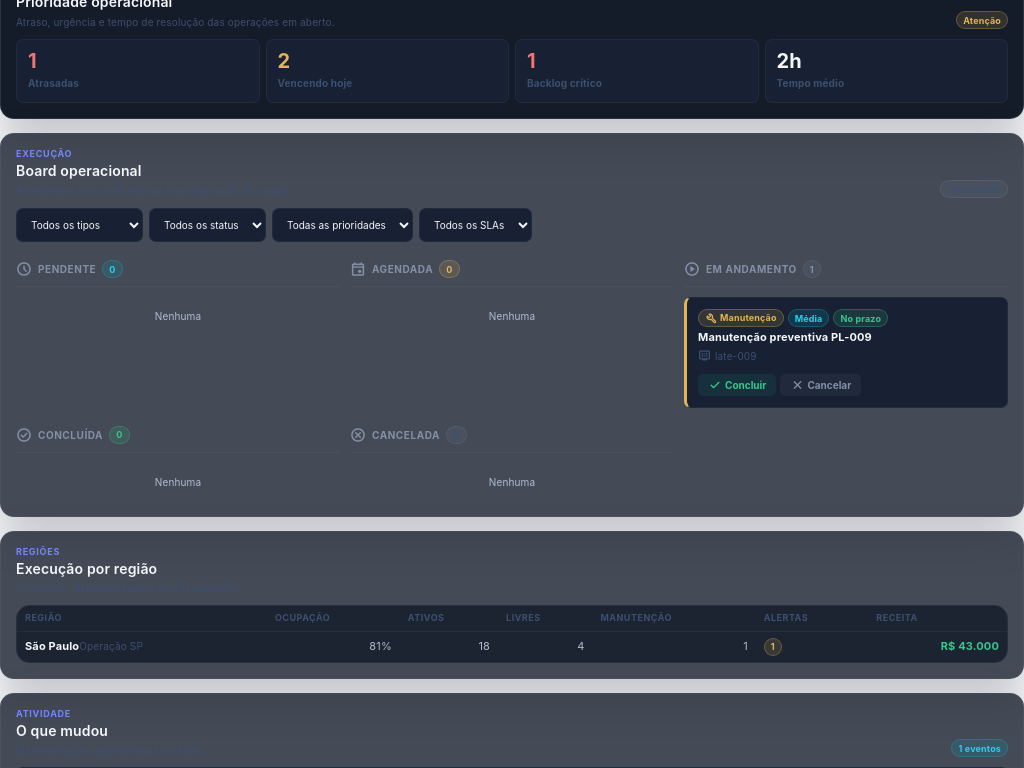
Test: OperationsPage smoke › Conclusão de manutenção › abre o modal de relatório final ao concluir uma manutenção em andamento
(page scrolled)
Click the button "Concluir": (737, 384) [698,374,776,396]
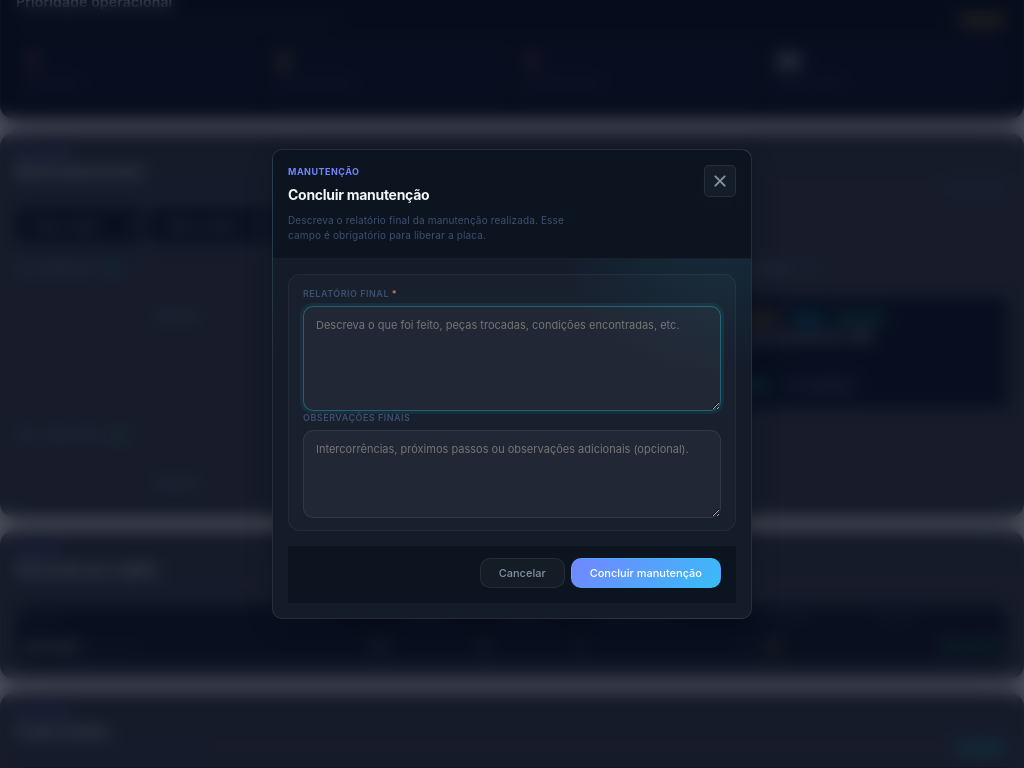
Now the dialog with test id "maintenance-completion-modal" is shown
Now the heading "Concluir manutenção" is shown, box [288,186,429,203]
